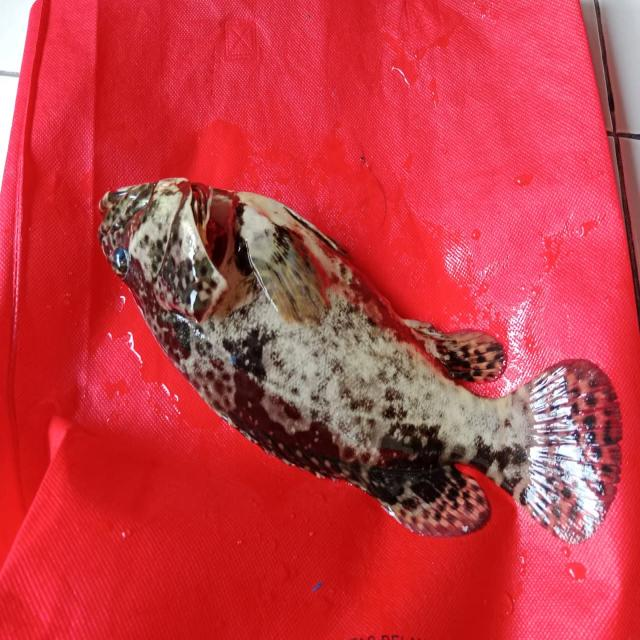ikan: (96, 175, 623, 546)
